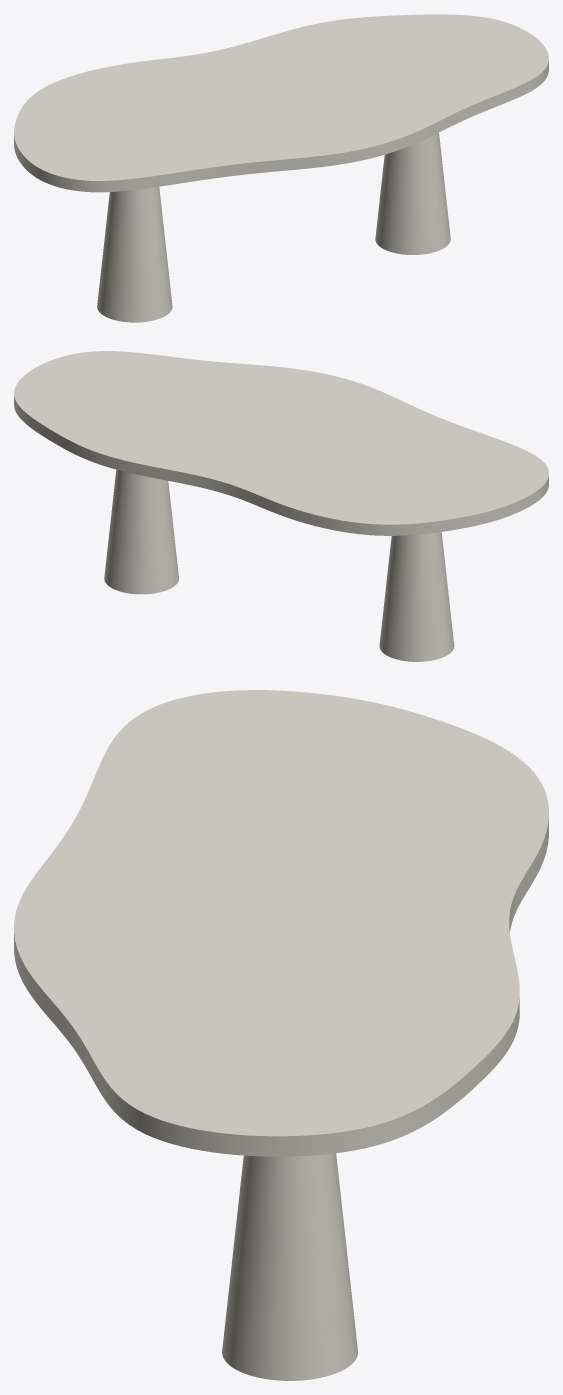
Rendered from pale_toplast_standard_pebble.glb.
The picture shows the model from 3 angles, top to bottom: view 1: azimuth 30°, elevation 25°; view 2: azimuth 150°, elevation 25°; view 3: azimuth 270°, elevation 25°; orthographic projection. The views are drawn at different scales.
Parts seen in each view (by area): view 1: standard_toplast, pebble; view 2: standard_toplast, pebble; view 3: standard_toplast, pebble.
Boxes of the visible parts, <box> form: standard_toplast: <box>14,14,548,192</box>; pebble: <box>97,133,450,322</box>; standard_toplast: <box>14,351,548,535</box>; pebble: <box>104,469,454,661</box>; standard_toplast: <box>14,690,548,1156</box>; pebble: <box>222,1153,357,1380</box>.
Size of the model in its own units: 7.5 by 2.5 by 3.8.
1 material, 1 textured.
